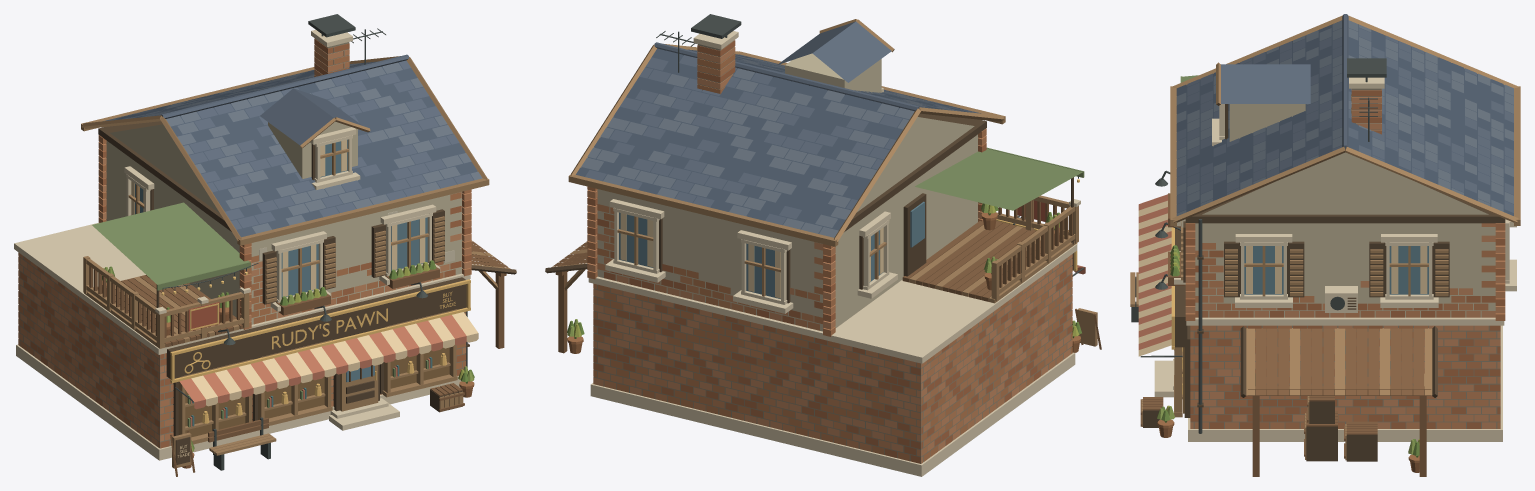
Rendered from SM_RudyPawnshop.fbx.
The picture shows the model from 3 angles, left to right: view 1: azimuth 30°, elevation 25°; view 2: azimuth 150°, elevation 25°; view 3: azimuth 270°, elevation 25°; orthographic projection. The views are drawn at different scales.
Visible parts, largest first — view 1: RUDY_22_Slate_Tiles.001, RUDY_03_Lower_Brick_Left.001, RUDY_15_Striped_Awning.001, RUDY_01_Upper_House.001, RUDY_07_Upper_Front.001, RUDY_13_Signboard.001, RUDY_02_Stone_Courses.001, RUDY_19_Terrace_Canopy.001, RUDY_10_Shopfront.001, RUDY_24_Roof_Trim.001, RUDY_21_Main_Roof.001, RUDY_01_Ground_Mass.001 (+25 smaller); view 2: RUDY_22_Slate_Tiles.001, RUDY_03_Lower_Brick_Rear.001, RUDY_01_Upper_House.001, RUDY_03_Lower_Brick_Left.001, RUDY_01_Ground_Mass.001, RUDY_02_Stone_Courses.001, RUDY_08_Rear_Windows.001, RUDY_24_Roof_Trim.001, RUDY_21_Main_Roof.001, RUDY_02_Stone_Base.001, RUDY_19_Terrace_Canopy.001, RUDY_16_Terrace_Deck.001 (+13 smaller); view 3: RUDY_22_Slate_Tiles.001, RUDY_03_Lower_Brick_Right.001, RUDY_31_LeanTo_Planks.001, RUDY_01_Upper_House.001, RUDY_08_Right_Windows.001, RUDY_23_Gable_Plaster.001, RUDY_21_Main_Roof.001, RUDY_24_Roof_Trim.001, RUDY_02_Stone_Courses.001, RUDY_04_Exposed_Brick_Right.001, RUDY_01_Ground_Mass.001, RUDY_15_Striped_Awning.001 (+17 smaller).
Part boxes in pixels (x1,y1,x2,y2): RUDY_22_Slate_Tiles.001: (103, 60, 482, 237); RUDY_03_Lower_Brick_Left.001: (18, 252, 159, 447); RUDY_15_Striped_Awning.001: (179, 312, 478, 409); RUDY_01_Upper_House.001: (106, 141, 462, 324); RUDY_07_Upper_Front.001: (262, 204, 444, 311); RUDY_13_Signboard.001: (166, 277, 466, 378); RUDY_02_Stone_Courses.001: (14, 121, 470, 354); RUDY_19_Terrace_Canopy.001: (92, 202, 250, 345); RUDY_10_Shopfront.001: (173, 309, 457, 444); RUDY_24_Roof_Trim.001: (81, 54, 489, 245); RUDY_21_Main_Roof.001: (116, 62, 477, 233); RUDY_01_Ground_Mass.001: (19, 256, 465, 448); RUDY_22_Slate_Tiles.001: (576, 48, 981, 237); RUDY_03_Lower_Brick_Rear.001: (593, 283, 920, 463); RUDY_01_Upper_House.001: (597, 134, 978, 331); RUDY_03_Lower_Brick_Left.001: (921, 254, 1072, 463); RUDY_01_Ground_Mass.001: (593, 258, 1071, 463); RUDY_02_Stone_Courses.001: (588, 113, 1077, 363); RUDY_08_Rear_Windows.001: (605, 199, 793, 313); RUDY_24_Roof_Trim.001: (568, 42, 1005, 246); RUDY_21_Main_Roof.001: (581, 50, 966, 233); RUDY_02_Stone_Base.001: (590, 352, 1075, 476); RUDY_19_Terrace_Canopy.001: (915, 147, 1084, 244); RUDY_16_Terrace_Deck.001: (902, 221, 1075, 303); RUDY_22_Slate_Tiles.001: (1176, 20, 1513, 215); RUDY_03_Lower_Brick_Right.001: (1190, 325, 1500, 428); RUDY_31_LeanTo_Planks.001: (1240, 326, 1437, 397); RUDY_01_Upper_House.001: (1195, 223, 1495, 317); RUDY_08_Right_Windows.001: (1224, 234, 1449, 307); RUDY_23_Gable_Plaster.001: (1202, 152, 1488, 214); RUDY_21_Main_Roof.001: (1177, 24, 1513, 213); RUDY_24_Roof_Trim.001: (1170, 14, 1520, 225); RUDY_02_Stone_Courses.001: (1185, 184, 1505, 325); RUDY_04_Exposed_Brick_Right.001: (1195, 223, 1495, 317); RUDY_01_Ground_Mass.001: (1190, 325, 1500, 428); RUDY_15_Striped_Awning.001: (1138, 194, 1171, 356).
Bounding box in the file's own units: 1267 × 1006 × 985.
